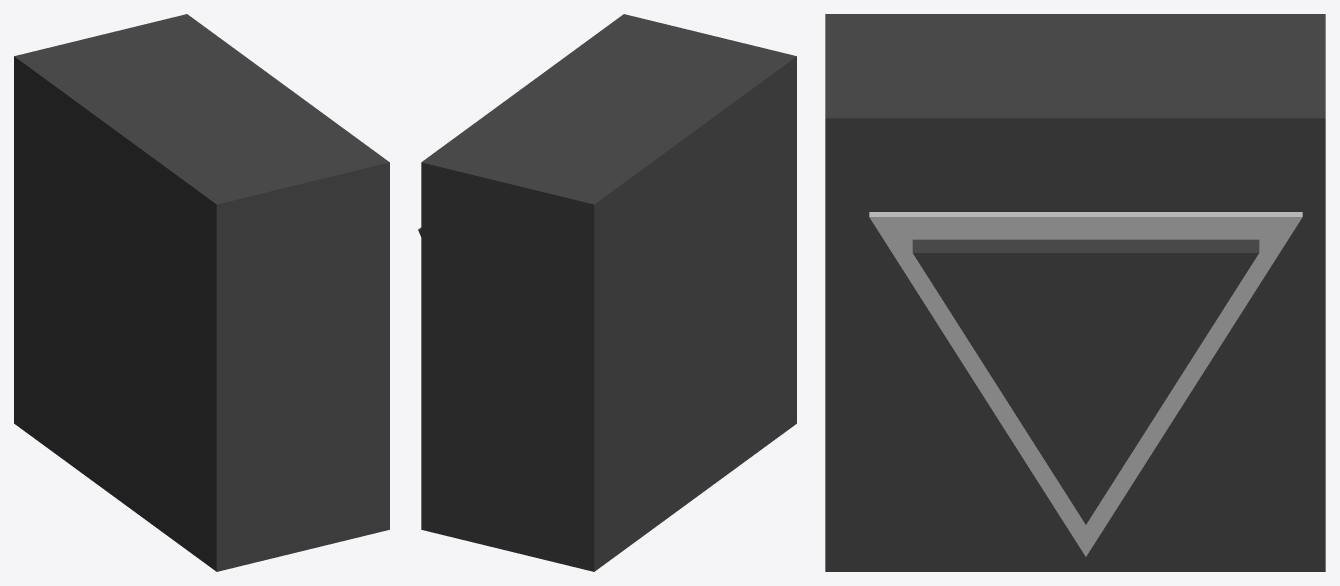
File: ElevatorButton.fbx
3 views of the same model, side by side, from view 1: azimuth 30°, elevation 25°; view 2: azimuth 150°, elevation 25°; view 3: azimuth 270°, elevation 25° (orthographic). The views are drawn at different scales.
Visible parts, largest first — view 1: Würfel_1; view 2: Würfel_1; view 3: Würfel_1, Zylinder_2, Zylinder_3.
Boxes of the visible parts, left/top/right/bottom form: Würfel_1: left=14, top=14, right=389, bottom=571; Würfel_1: left=421, top=14, right=796, bottom=571; Würfel_1: left=825, top=14, right=1325, bottom=571; Zylinder_2: left=912, top=239, right=1259, bottom=524; Zylinder_3: left=869, top=212, right=1302, bottom=556.
Bounding box in the file's own units: 116 × 200 × 200.
Materials: 3 (3 with a texture image).
